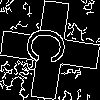C: (25, 25, 76, 68)
